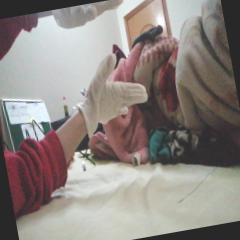gloved: (72, 48, 154, 137), (52, 0, 128, 33)
